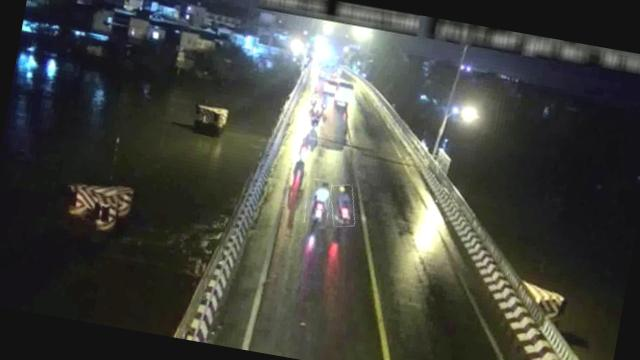Bike: (302, 178, 334, 228), (326, 183, 359, 230), (291, 156, 307, 186), (307, 92, 320, 109), (321, 95, 330, 111)
